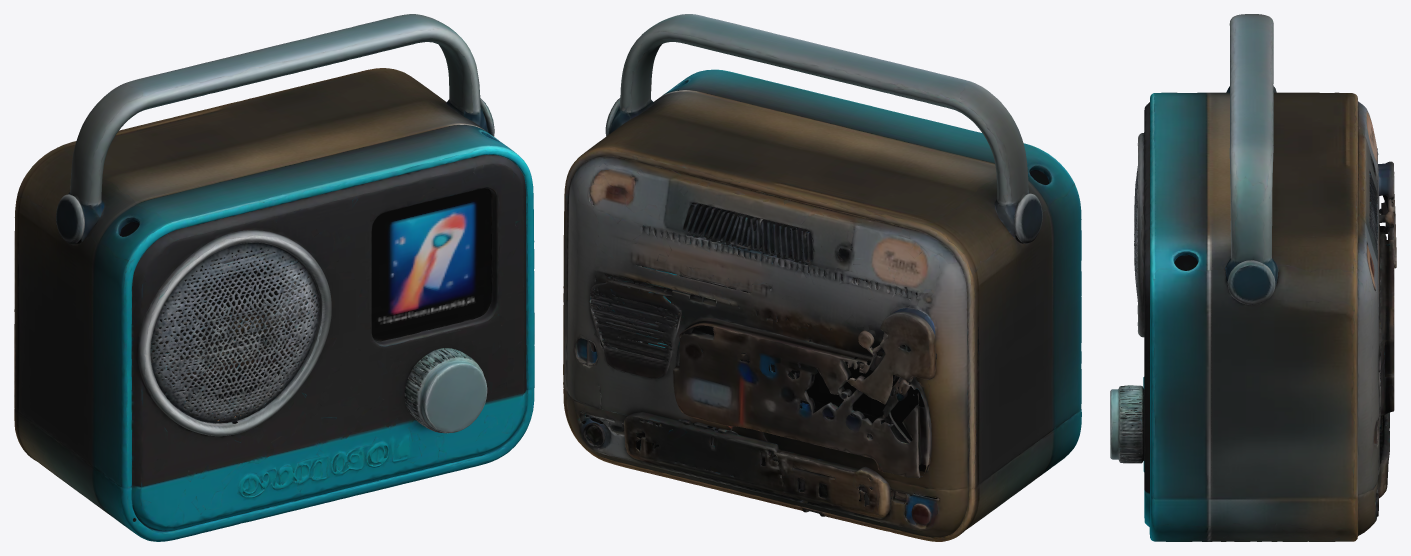
Rendered from space-garden.glb.
3 views of the same model, side by side, from view 1: azimuth 30°, elevation 25°; view 2: azimuth 150°, elevation 25°; view 3: azimuth 270°, elevation 25° (orthographic). The views are drawn at different scales.
Visible parts, largest first — view 1: world; view 2: world; view 3: world.
Part boxes in pixels (<box>): world: <box>14,14,534,541</box>; world: <box>563,14,1081,541</box>; world: <box>1110,14,1396,541</box>.
Bounding box in the file's own units: 1 × 0.9495 × 0.6307.
1 material, 1 textured.
